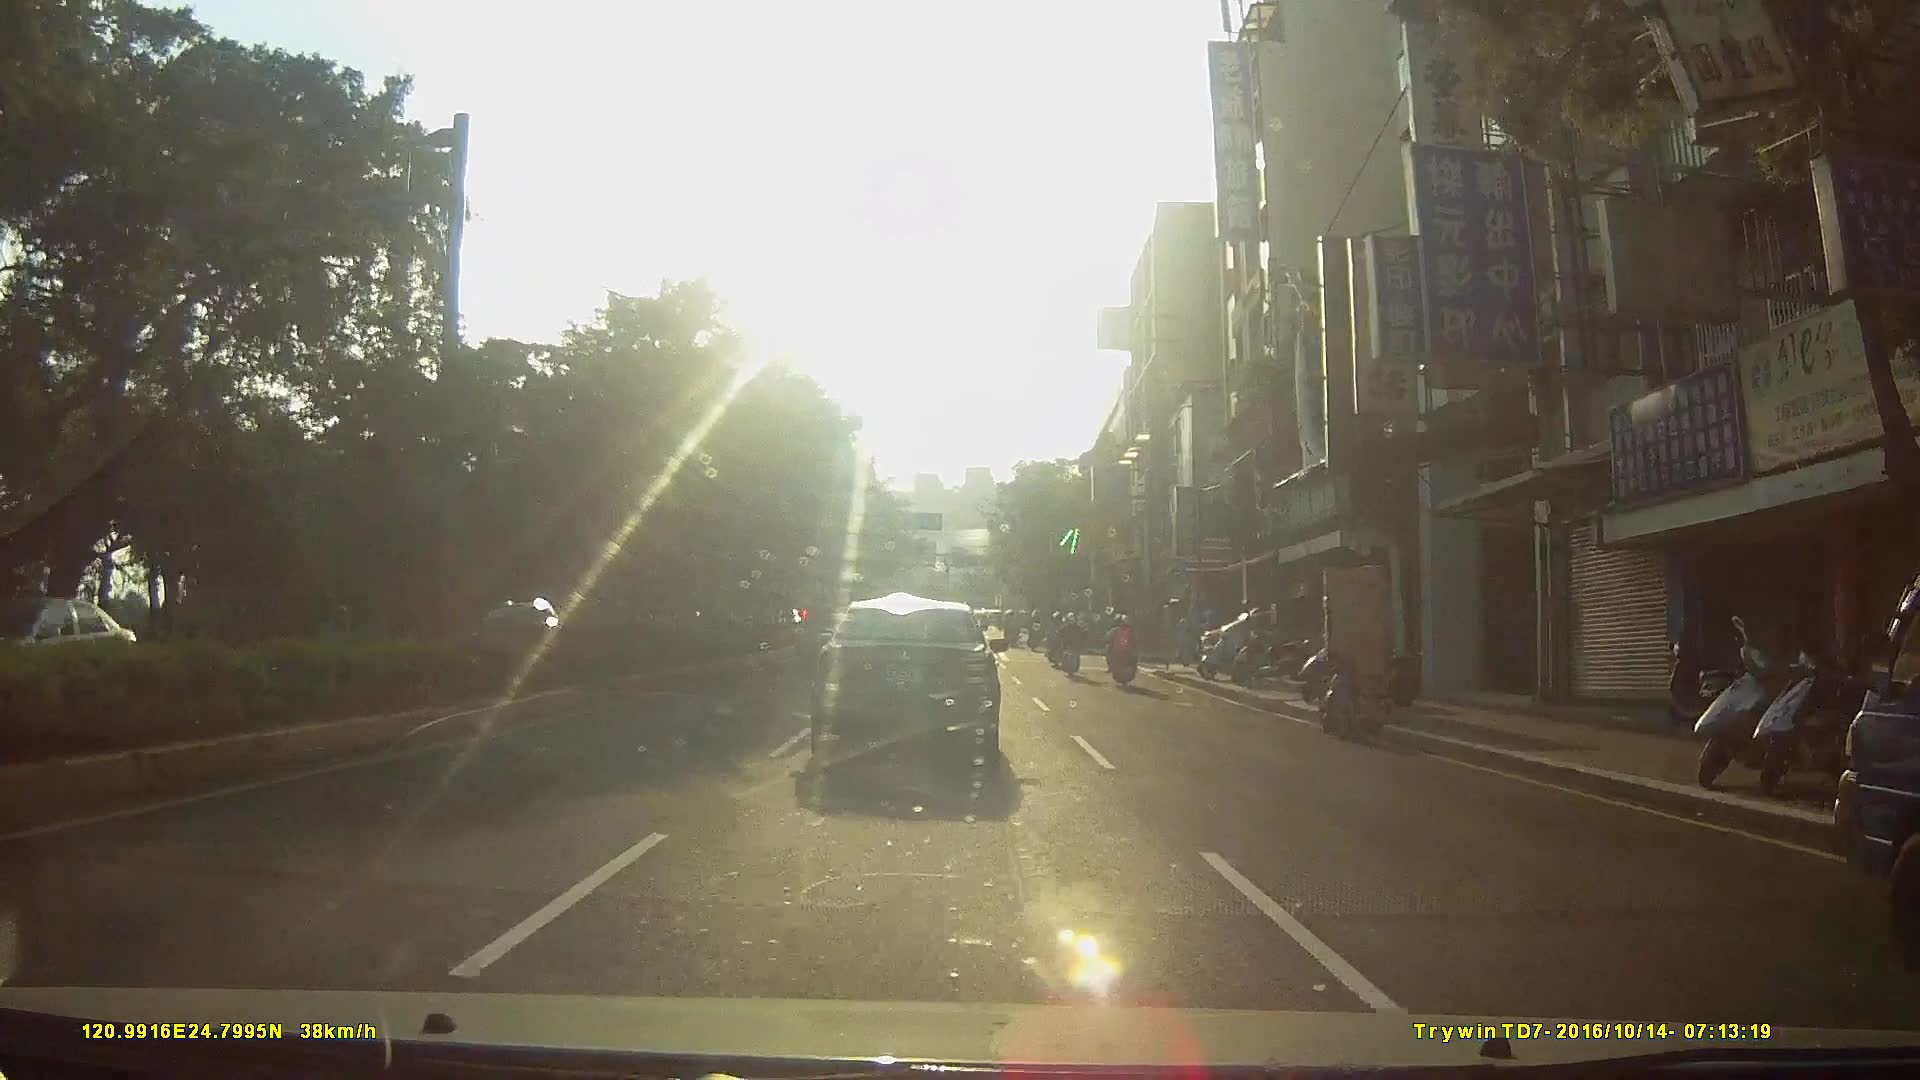rider: (1106, 617, 1140, 692), (1059, 612, 1085, 679), (1046, 612, 1069, 671)
vehicle: (1818, 538, 1920, 972), (807, 597, 1023, 788), (12, 598, 148, 699)
